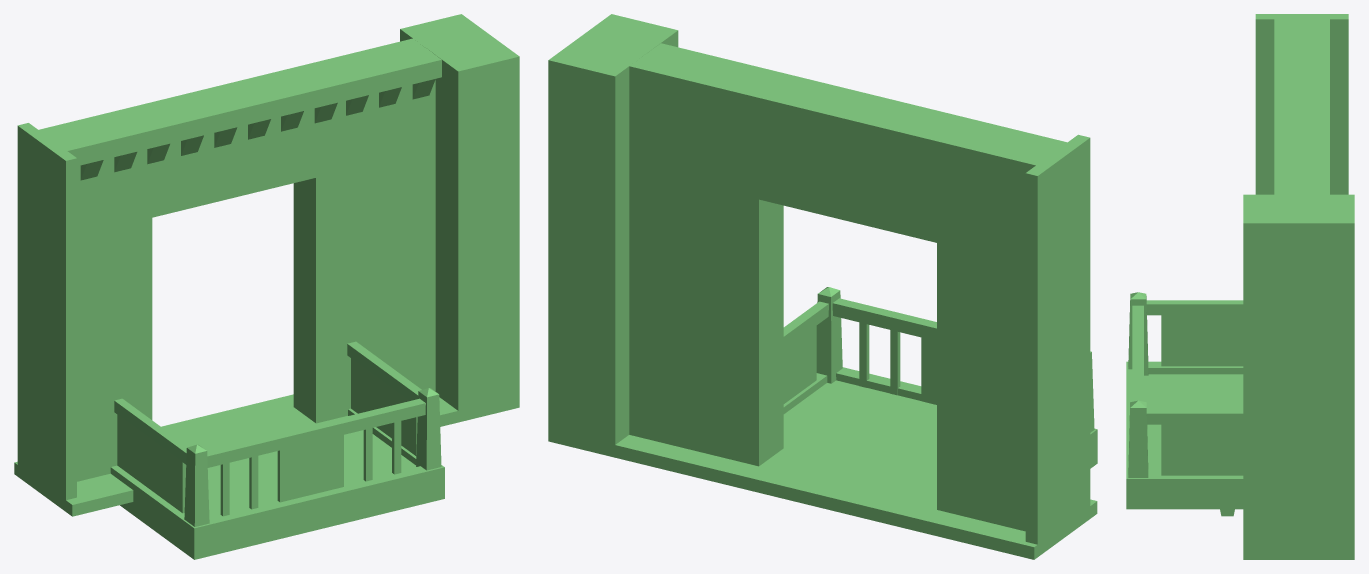
File: Bld3_Wall_Mid_H.fbx
3 renders of one model, left to right at view 1: azimuth 30°, elevation 25°; view 2: azimuth 150°, elevation 25°; view 3: azimuth 270°, elevation 25°, orthographic. The views are drawn at different scales.
Visible parts, largest first — view 1: Bld3_Wall_Mid_H; view 2: Bld3_Wall_Mid_H; view 3: Bld3_Wall_Mid_H.
Part boxes in pixels (bbox=[...]): Bld3_Wall_Mid_H: bbox=[14, 14, 519, 559]; Bld3_Wall_Mid_H: bbox=[548, 14, 1097, 559]; Bld3_Wall_Mid_H: bbox=[1126, 14, 1354, 559].
Bounding box in the file's own units: 600 × 500 × 277.
